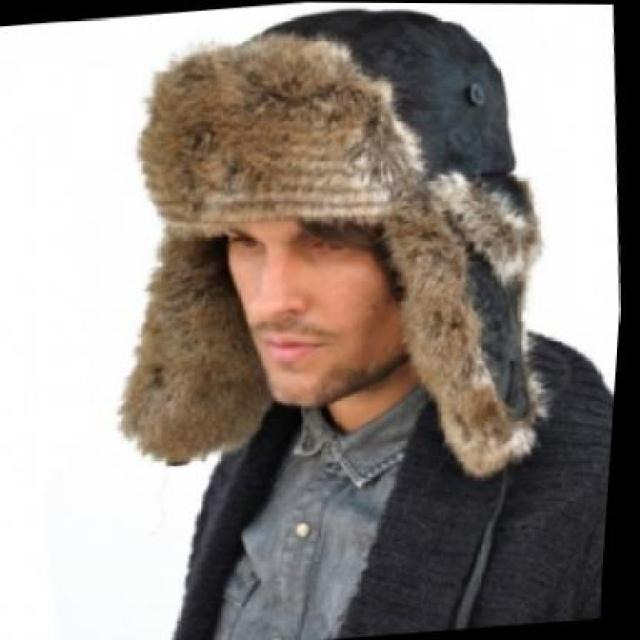hat: (122, 9, 551, 477)
